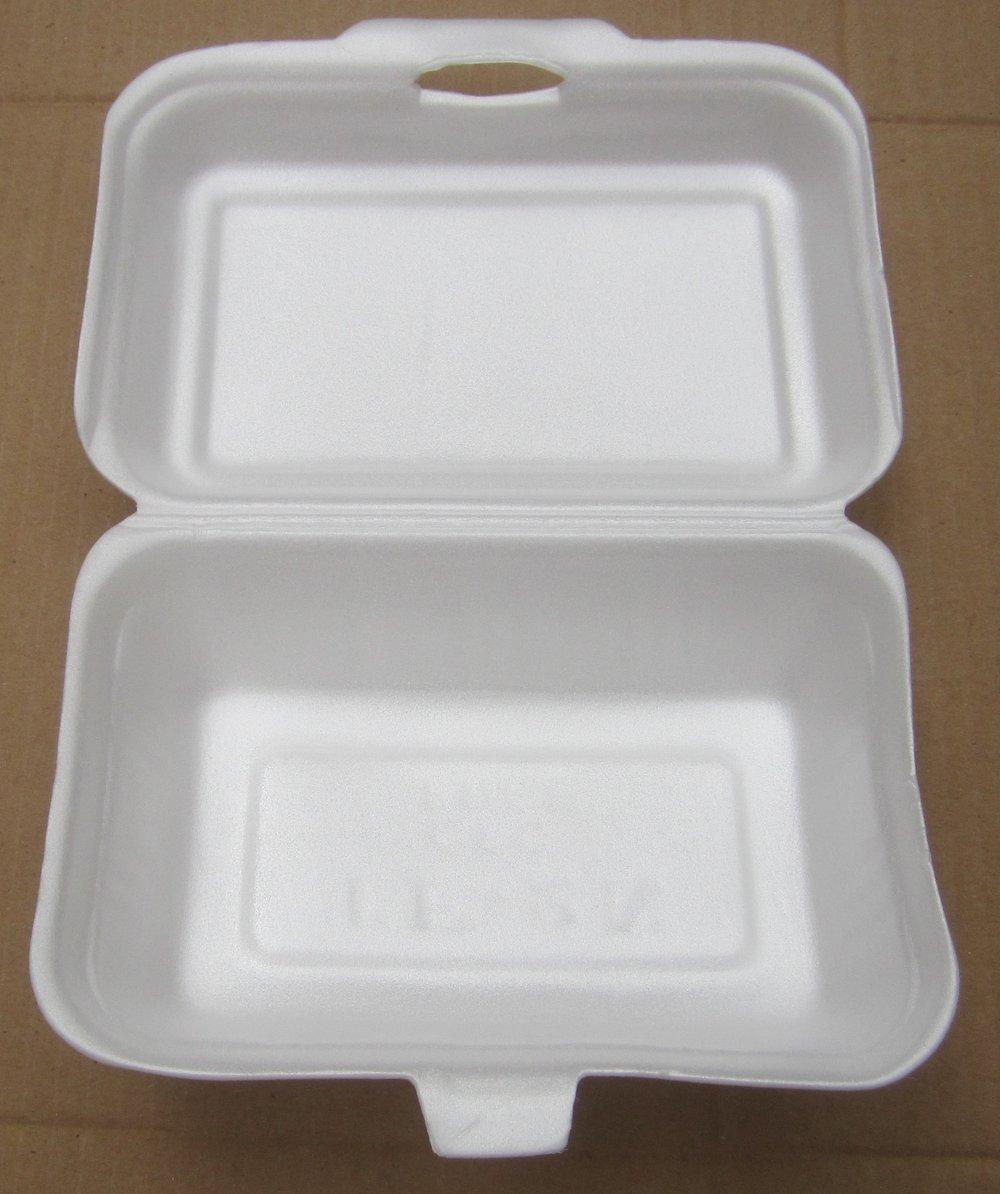PS: (23, 18, 961, 1152)
